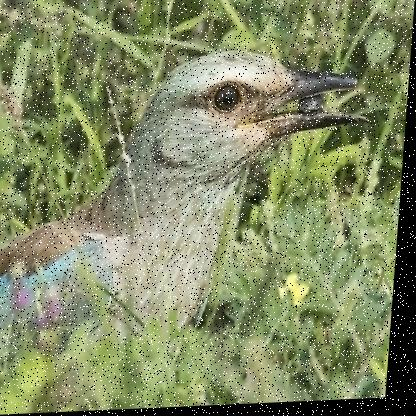Burung: (0, 52, 374, 353)
